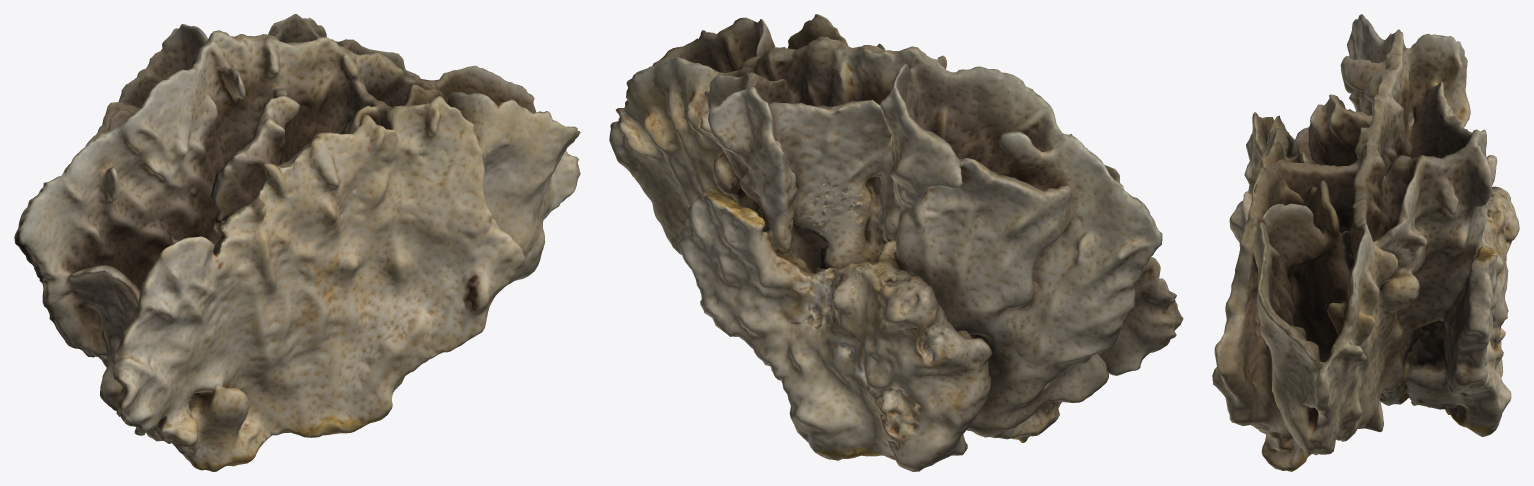
File: pierre.gltf
3 renders of one model, left to right at view 1: azimuth 30°, elevation 25°; view 2: azimuth 150°, elevation 25°; view 3: azimuth 270°, elevation 25°, orthographic. The views are drawn at different scales.
Bounding box in the file's own units: 0.1836 × 0.1271 × 0.0866.
1 material, 1 textured.
